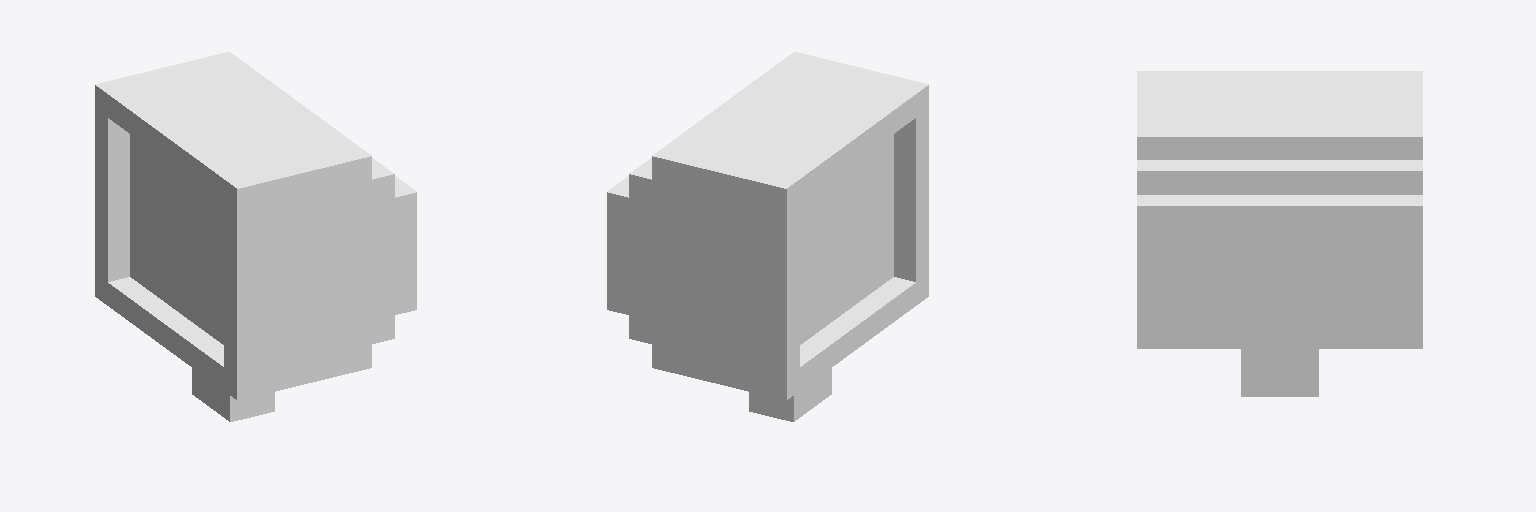
Rendered from robo_head.obj.
The picture shows the model from 3 angles: view 1: azimuth 30°, elevation 25°; view 2: azimuth 150°, elevation 25°; view 3: azimuth 270°, elevation 25°; orthographic projection.
Visible parts, largest first — view 1: object 1; view 2: object 1; view 3: object 1.
Boxes of the visible parts, x1,y1,x2,y2 form: object 1: [95, 52, 416, 421]; object 1: [607, 52, 928, 421]; object 1: [1137, 71, 1422, 396].
Size of the model in its own units: 0.8 by 1.2 by 1.1.